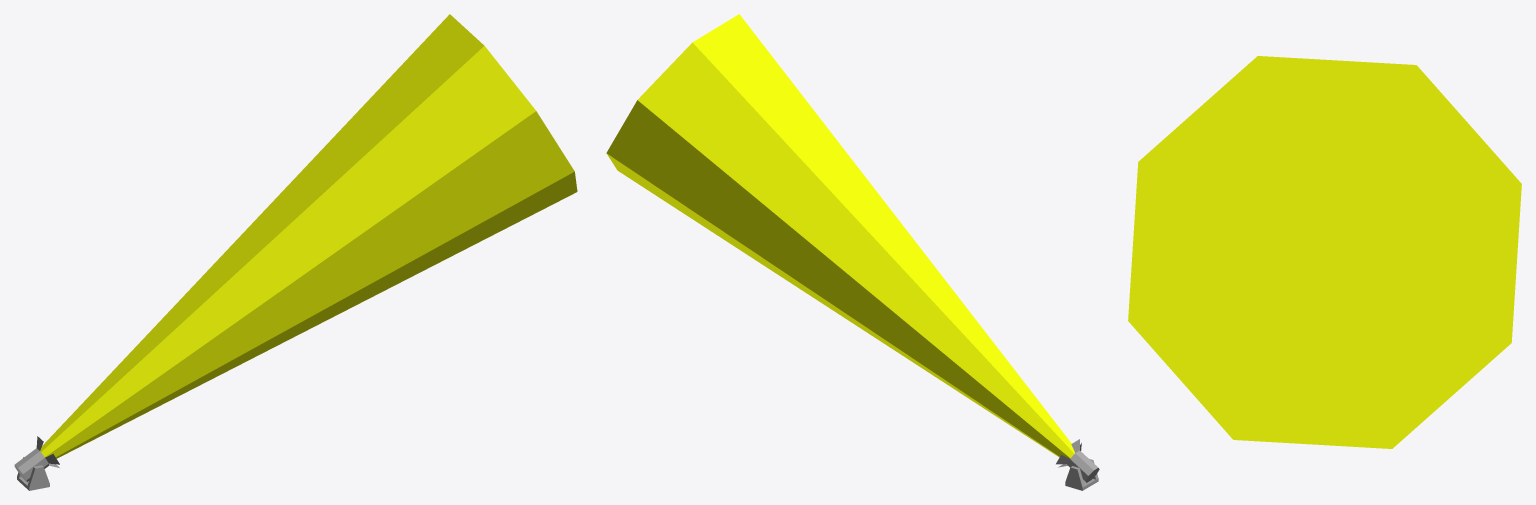
File: Spotlight.glb
3 renders of one model, left to right at view 1: azimuth 30°, elevation 25°; view 2: azimuth 150°, elevation 25°; view 3: azimuth 270°, elevation 25°, orthographic. The views are drawn at different scales.
Visible parts, largest first — view 1: polySurface209, polySurface2.001; view 2: polySurface209, polySurface2.001; view 3: polySurface209.
Boxes of the visible parts, bbox=[...] form: polySurface209: bbox=[40, 14, 577, 458]; polySurface2.001: bbox=[14, 436, 59, 481]; polySurface209: bbox=[606, 14, 1074, 458]; polySurface2.001: bbox=[1056, 439, 1099, 482]; polySurface209: bbox=[1128, 56, 1521, 448].
Bounding box in the file's own units: 24.31 × 16.55 × 8.52.
3 materials, 2 textured.
